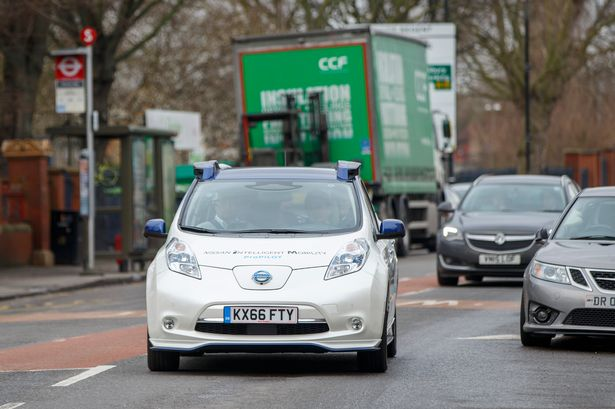car: (147, 161, 403, 371)
